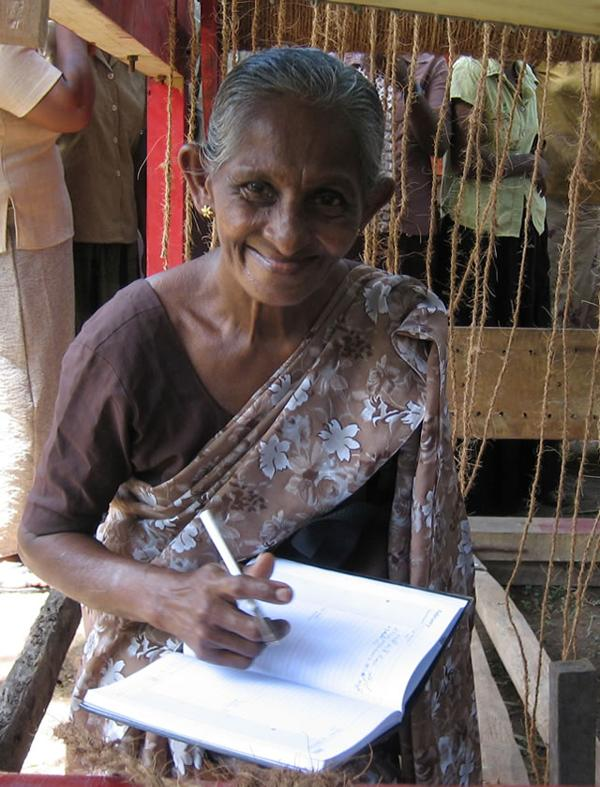person: (18, 43, 482, 786)
